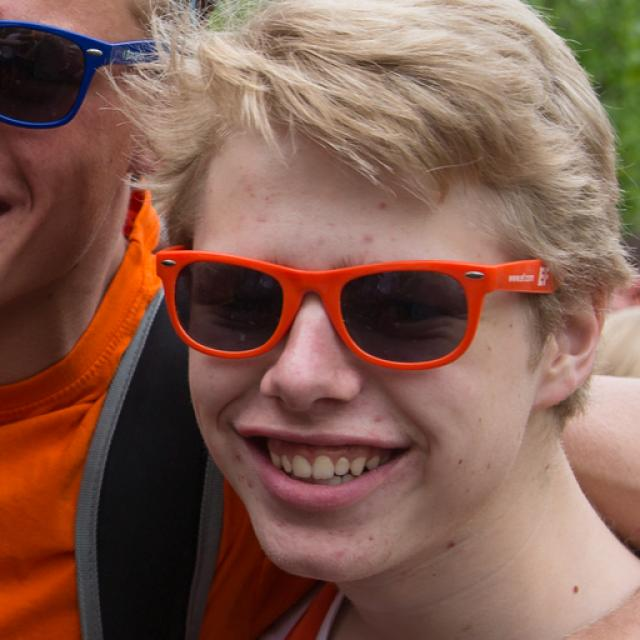Acne: (369, 196, 395, 215), (358, 230, 378, 248)
